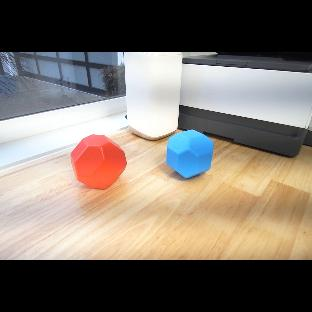V5_BLUE: (164, 128, 215, 178)
V5_RED: (71, 133, 127, 191)
